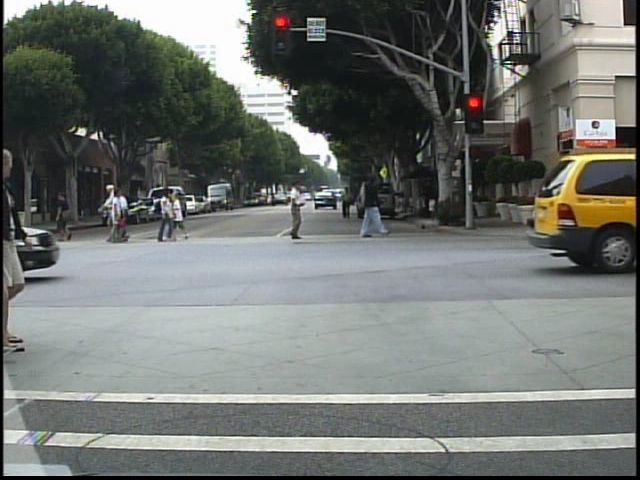person: (355, 169, 391, 242), (282, 177, 312, 241), (156, 188, 179, 246), (106, 188, 125, 248), (54, 185, 75, 238), (103, 181, 120, 245), (340, 184, 356, 220), (121, 186, 127, 245)
